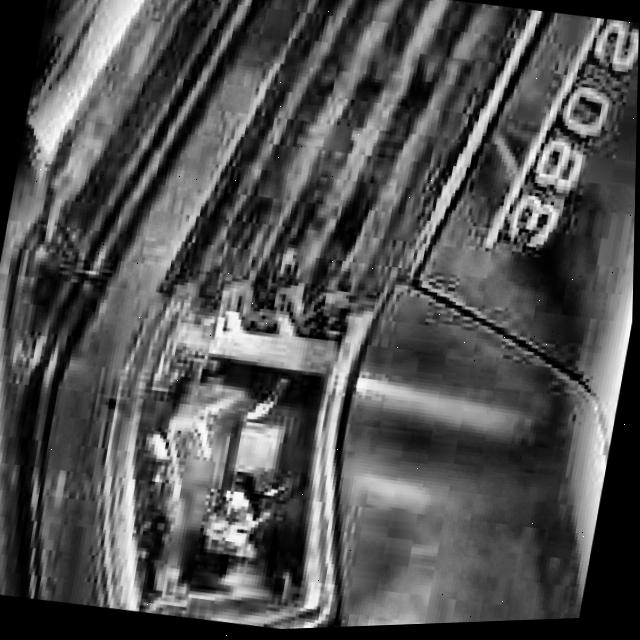tail_lamp: (83, 302, 362, 630)
